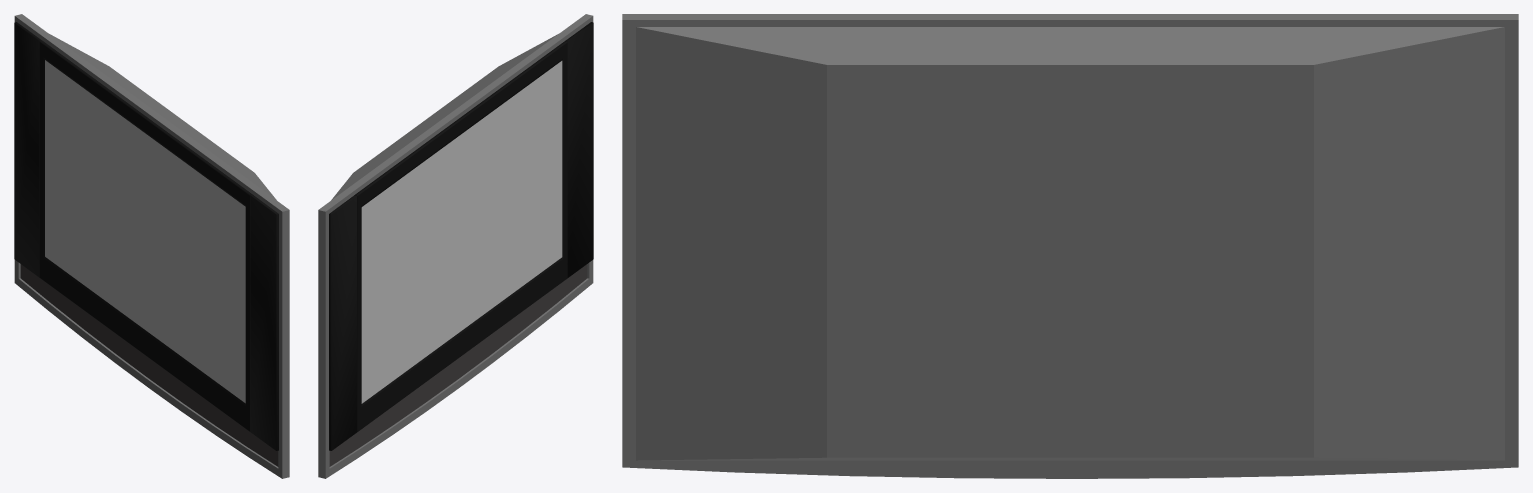
3 views of the same model, side by side, from view 1: azimuth 30°, elevation 25°; view 2: azimuth 150°, elevation 25°; view 3: azimuth 270°, elevation 25° (orthographic). The views are drawn at different scales.
Parts seen in each view (by area): view 1: tv; view 2: tv; view 3: tv.
Boxes of the visible parts, bbox=[...] form: tv: bbox=[14, 14, 289, 478]; tv: bbox=[318, 14, 593, 478]; tv: bbox=[622, 14, 1518, 478].
Size of the model in its own units: 10.98 by 138 by 77.79.
